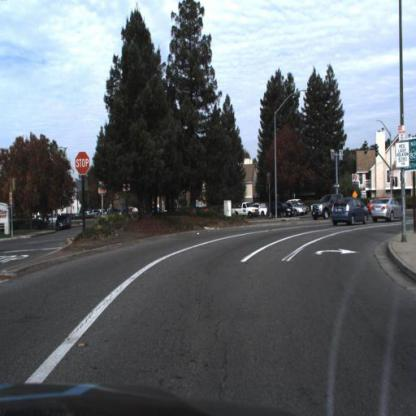car: (331, 193, 371, 231), (332, 195, 370, 230), (370, 196, 410, 225), (309, 188, 336, 223), (369, 197, 403, 224), (233, 200, 260, 221), (52, 213, 75, 236), (269, 199, 294, 220), (270, 201, 296, 219), (53, 210, 71, 234), (259, 201, 270, 219)
